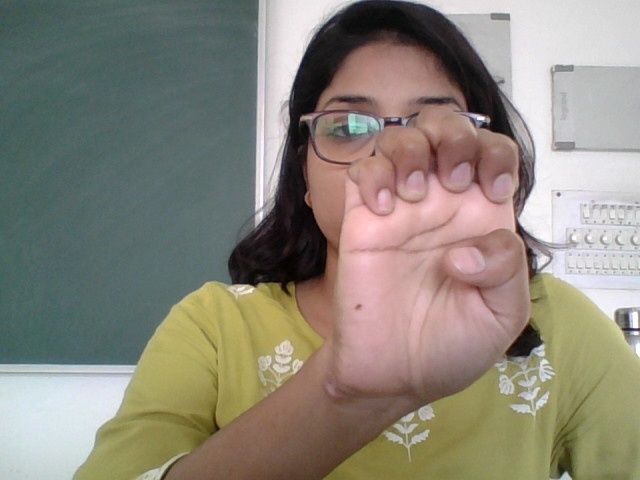E: (337, 111, 537, 407)
